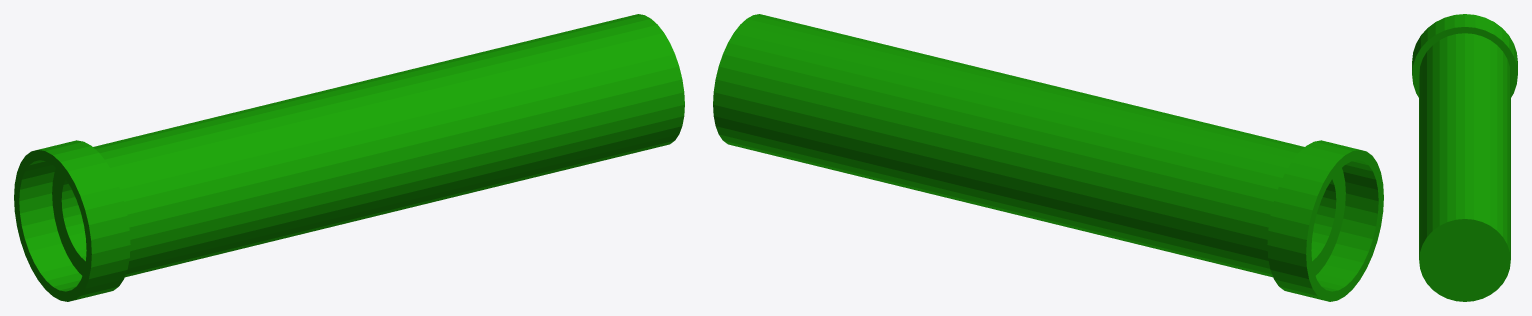
3 renders of one model, left to right at view 1: azimuth 30°, elevation 25°; view 2: azimuth 150°, elevation 25°; view 3: azimuth 270°, elevation 25°, orthographic. The views are drawn at different scales.
Visible parts, largest first — view 1: Cylinder_0; view 2: Cylinder_0; view 3: Cylinder_0.
Part boxes in pixels (left/top/right/bottom): Cylinder_0: left=14, top=14, right=684, bottom=301; Cylinder_0: left=713, top=14, right=1383, bottom=301; Cylinder_0: left=1412, top=14, right=1517, bottom=301.
Bounding box in the file's own units: 5.28 × 1.19 × 1.19.
